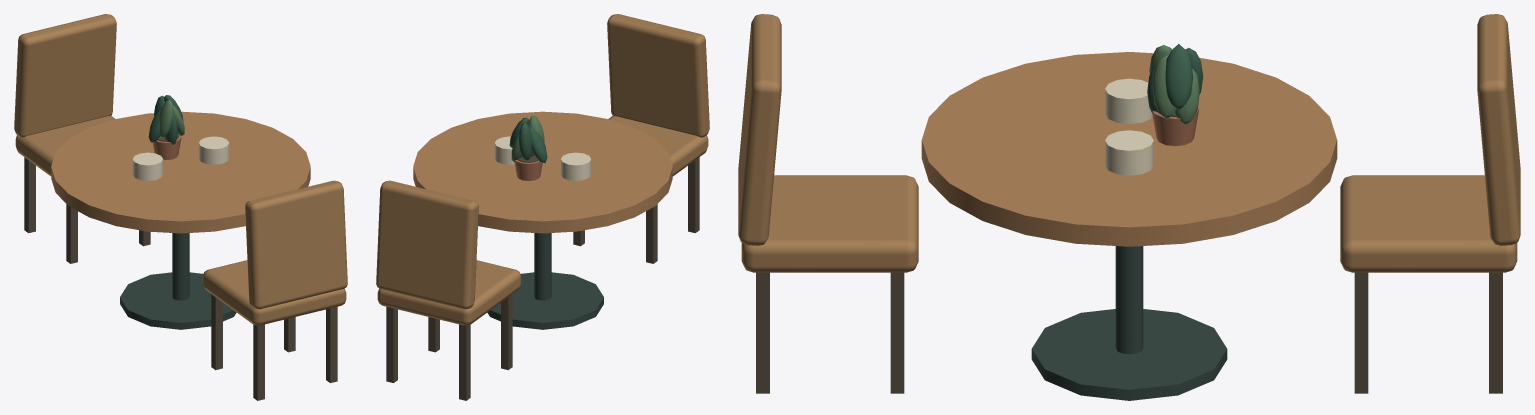
File: cafe-table.glb
3 renders of one model, left to right at view 1: azimuth 30°, elevation 25°; view 2: azimuth 150°, elevation 25°; view 3: azimuth 270°, elevation 25°, orthographic. The views are drawn at different scales.
Size of the model in its own units: 1.36 by 1.15 by 2.56.
